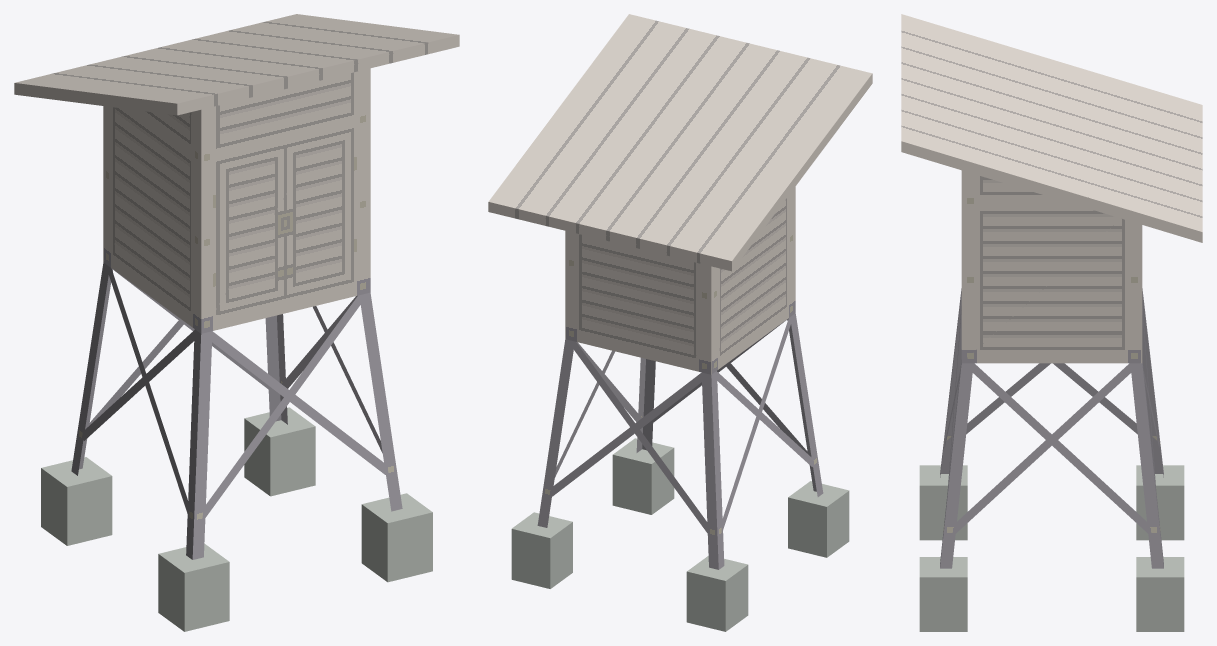
Rendered from 0085_Weather_Station.glb.
The picture shows the model from 3 angles, left to right: view 1: azimuth 30°, elevation 25°; view 2: azimuth 150°, elevation 25°; view 3: azimuth 270°, elevation 25°; orthographic projection. The views are drawn at different scales.
Parts seen in each view (by area): view 1: part_0; view 2: part_0; view 3: part_0.
Boxes of the visible parts, x1,y1,x2,y2 form: part_0: (14, 14, 459, 631); part_0: (488, 14, 872, 631); part_0: (901, 14, 1202, 631).
Size of the model in its own units: 1.25 by 2.28 by 1.25.
Materials: 1 (1 with a texture image).
